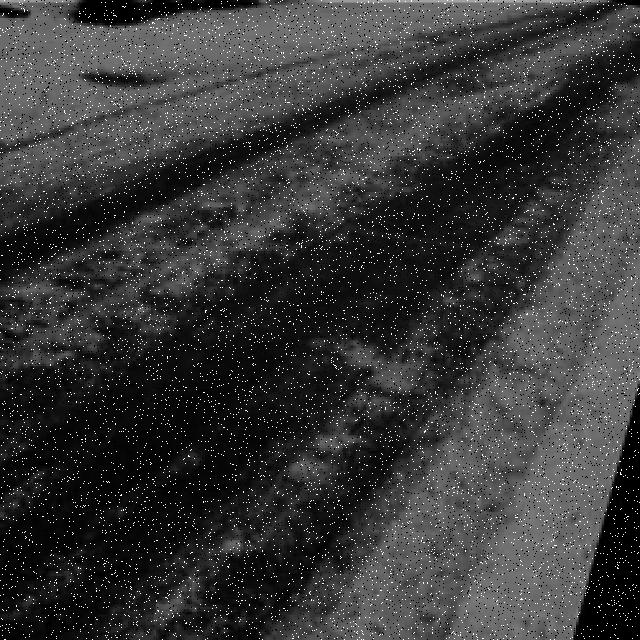ice-road: (0, 4, 640, 640)
